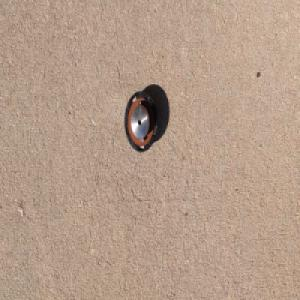FuelCap: (123, 88, 159, 155)
